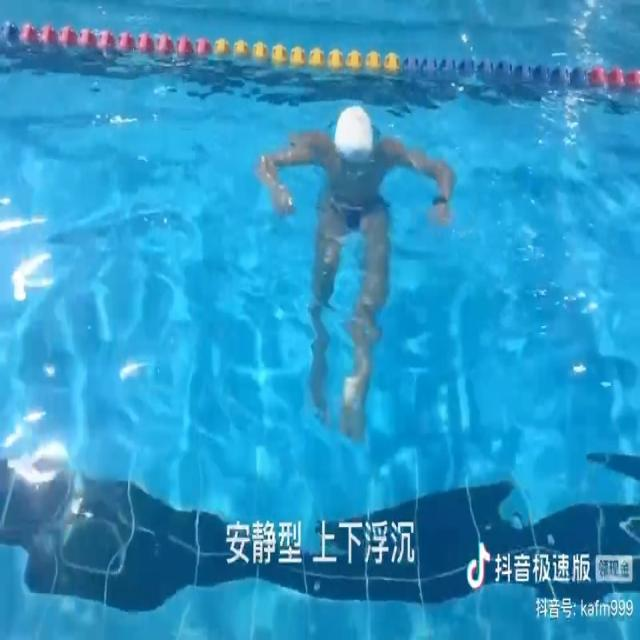Drowning: (259, 105, 457, 441)
